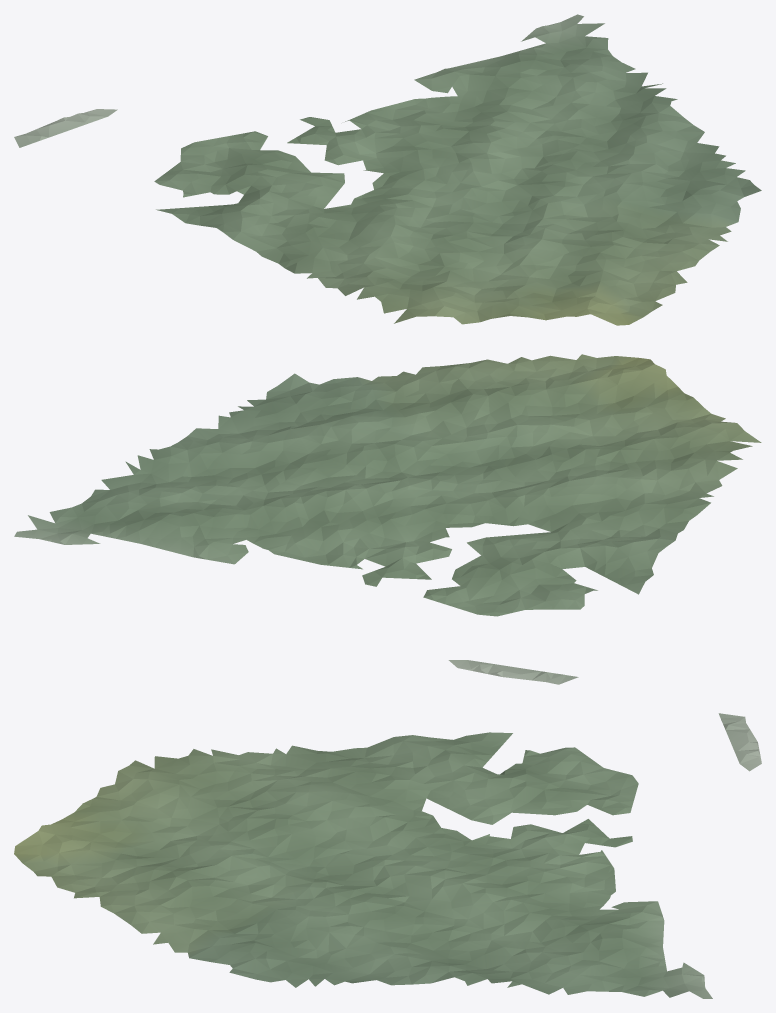
The picture shows the model from 3 angles, top to bottom: view 1: azimuth 30°, elevation 25°; view 2: azimuth 150°, elevation 25°; view 3: azimuth 270°, elevation 25°; orthographic projection. The views are drawn at different scales.
Visible parts, largest first — view 1: 西西伯利亚湿地; view 2: 西西伯利亚湿地; view 3: 西西伯利亚湿地.
Part boxes in pixels (x1,y1,x2,y2): 西西伯利亚湿地: [14, 14, 761, 325]; 西西伯利亚湿地: [14, 354, 761, 684]; 西西伯利亚湿地: [14, 713, 761, 998].
Size of the model in its own units: 23.41 by 0.6579 by 25.57.
